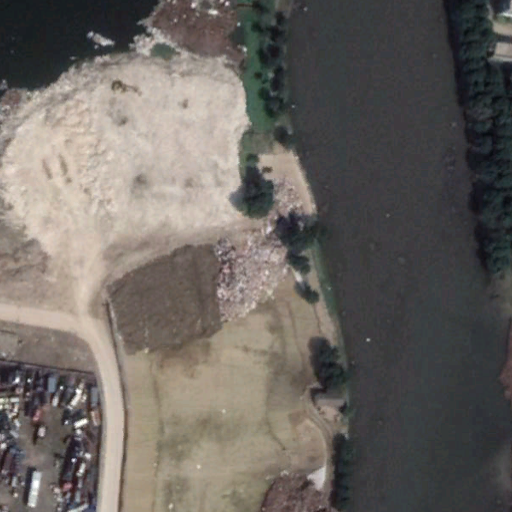msw: (214, 227, 290, 320)
